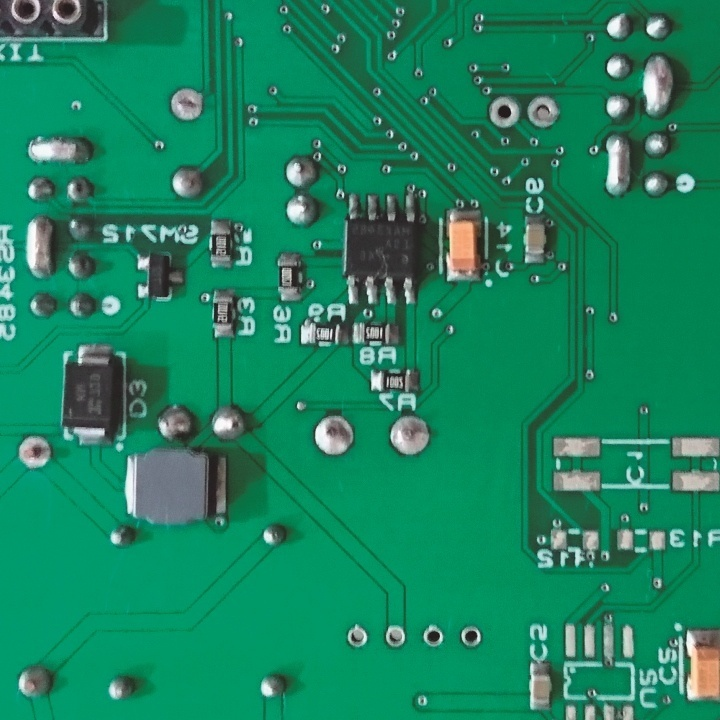F: (313, 413, 356, 460), (390, 415, 430, 458), (18, 433, 55, 472), (524, 94, 562, 130), (167, 87, 204, 123), (487, 95, 520, 129), (345, 625, 370, 652), (421, 623, 446, 649), (384, 624, 408, 650), (459, 623, 482, 650)
P: (640, 52, 678, 120), (602, 133, 633, 202), (28, 134, 90, 166), (24, 219, 56, 279)
